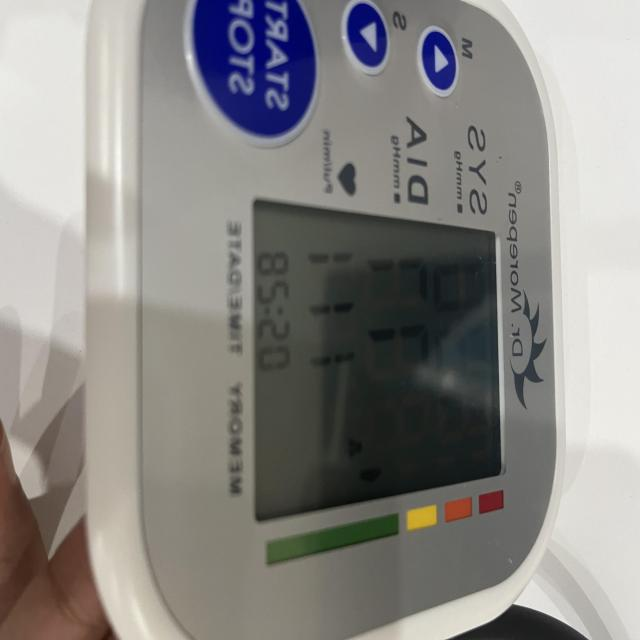bp: (0, 0, 596, 640)
